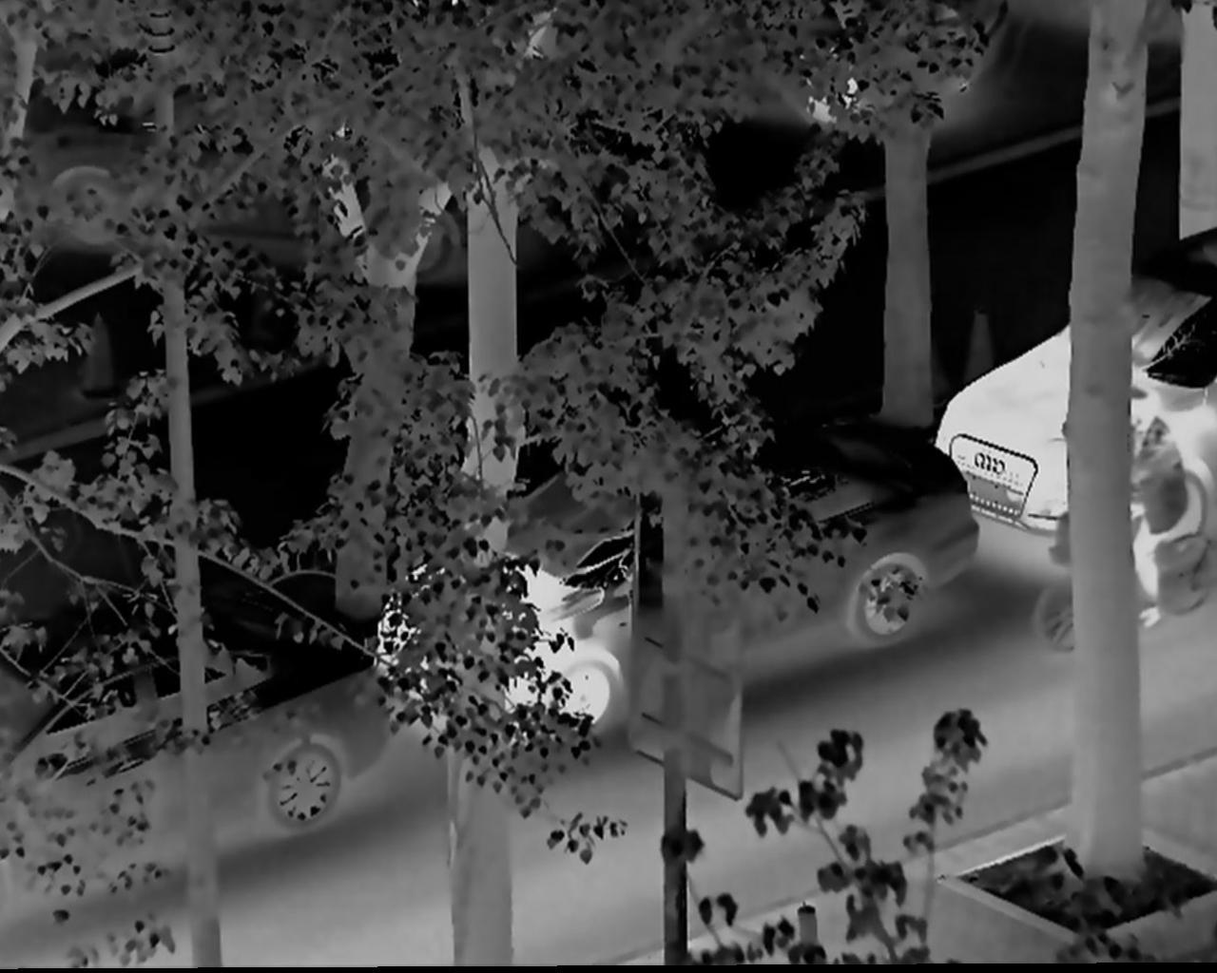person: (1122, 373, 1203, 652)
